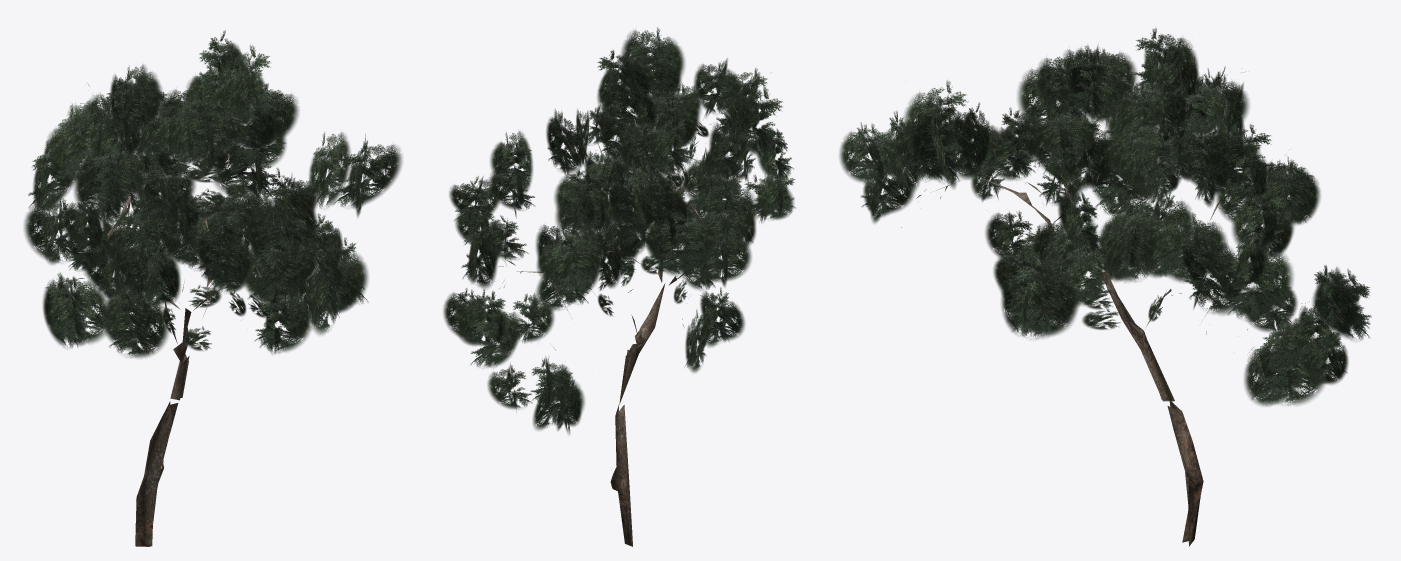
Rendered from tree-v4-mobile.glb.
The picture shows the model from 3 angles, left to right: view 1: azimuth 30°, elevation 25°; view 2: azimuth 150°, elevation 25°; view 3: azimuth 270°, elevation 25°; orthographic projection. The views are drawn at different scales.
Parts seen in each view (by area): view 1: tree-v4-mobile; view 2: tree-v4-mobile; view 3: tree-v4-mobile.
Part boxes in pixels (box(x1,y1,x2,y2)): tree-v4-mobile: box(24, 30, 402, 546); tree-v4-mobile: box(443, 27, 795, 546); tree-v4-mobile: box(839, 27, 1371, 546).
Bounding box in the file's own units: 9.06 × 14.89 × 13.97.
3 materials, 3 textured.
